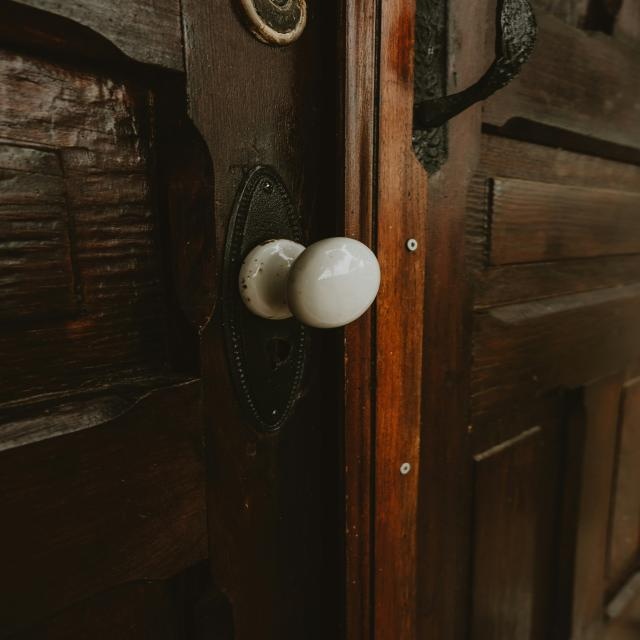door-knob: (238, 237, 381, 331)
